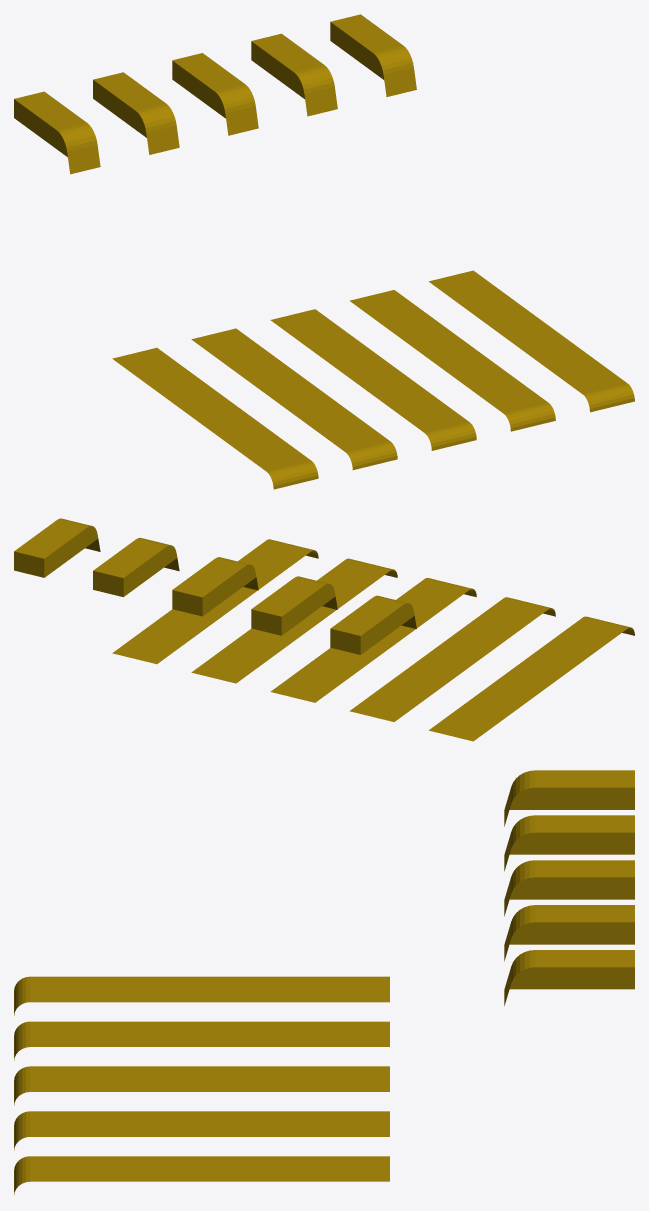
Rendered from zatana_terra_base_vis_105.dae.
3 renders of one model, top to bottom at view 1: azimuth 30°, elevation 25°; view 2: azimuth 150°, elevation 25°; view 3: azimuth 270°, elevation 25°, orthographic. The views are drawn at different scales.
Parts seen in each view (by area): view 1: Node_000002318374C350; view 2: Node_000002318374C350; view 3: Node_000002318374C350.
Part boxes in pixels (<box>): Node_000002318374C350: <box>14,14,634,489</box>; Node_000002318374C350: <box>14,518,634,741</box>; Node_000002318374C350: <box>14,770,634,1194</box>.
Bounding box in the file's own units: 0.00297 × 0.00152 × 0.0038.
